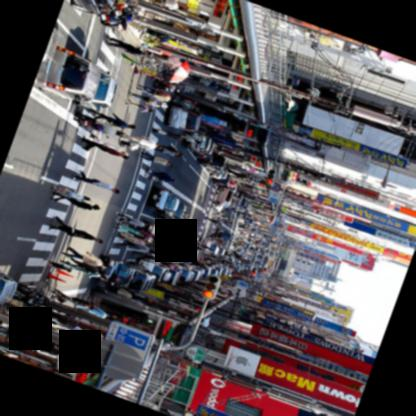handbag: (163, 150, 174, 156)
suitcase: (115, 140, 138, 149)
